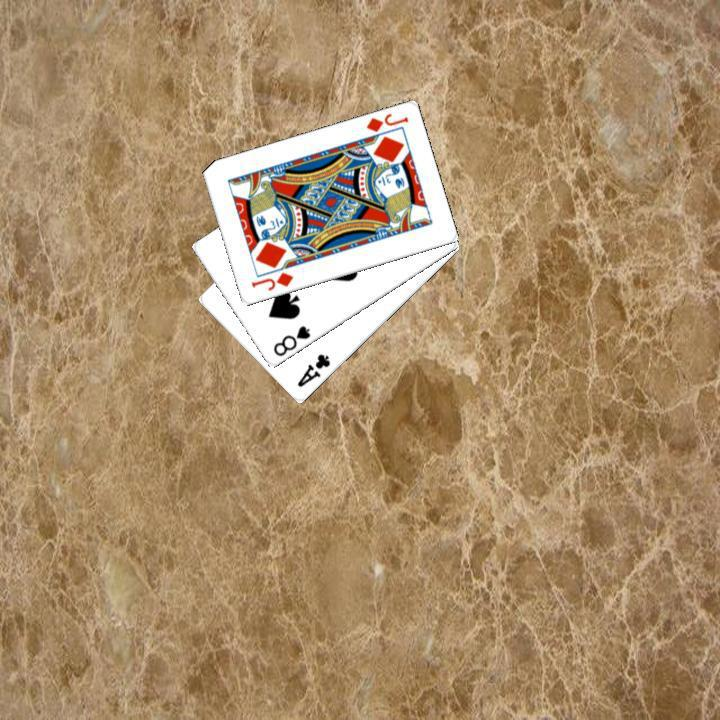8: (269, 322, 313, 359)
A: (292, 350, 332, 389)
J: (361, 109, 410, 135), (247, 268, 295, 293)
